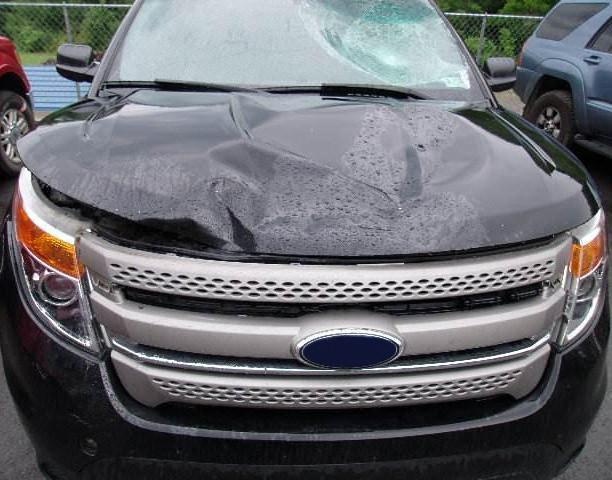bonnet-dent: (28, 91, 536, 257)
